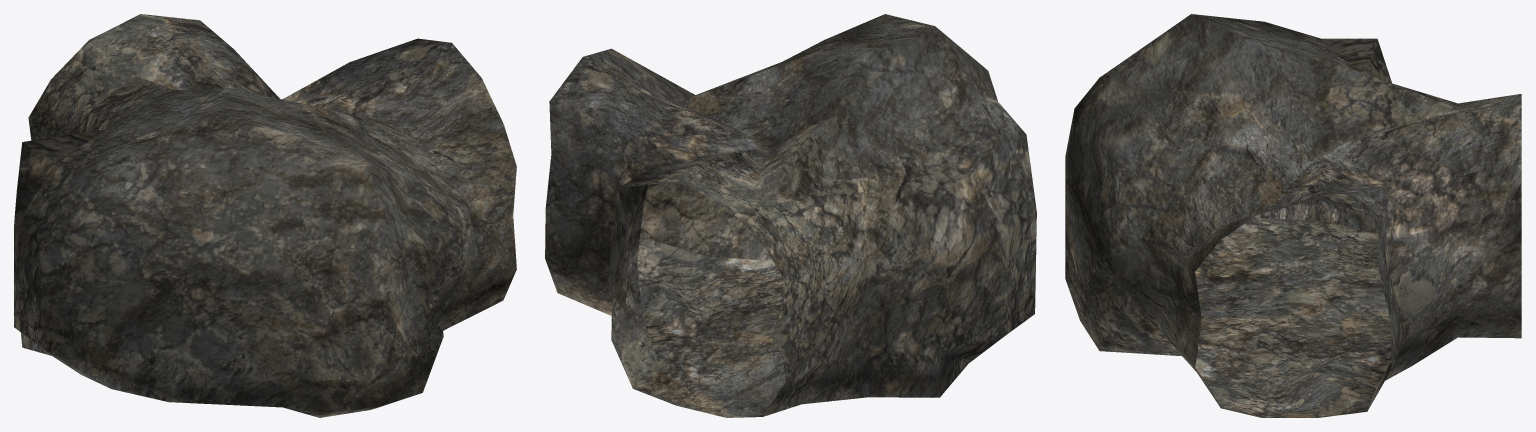
File: cave_piece_02.glb
The picture shows the model from 3 angles, left to right: view 1: azimuth 30°, elevation 25°; view 2: azimuth 150°, elevation 25°; view 3: azimuth 270°, elevation 25°; orthographic projection. The views are drawn at different scales.
Visible parts, largest first — view 1: mine_02_mine_0; view 2: mine_02_mine_0; view 3: mine_02_mine_0.
Part boxes in pixels (left/top/right/bottom): mine_02_mine_0: left=14, top=14, right=516, bottom=417; mine_02_mine_0: left=545, top=14, right=1036, bottom=417; mine_02_mine_0: left=1065, top=14, right=1521, bottom=417.
Size of the model in its own units: 8.6 by 5.42 by 8.22.
Materials: 1 (1 with a texture image).
